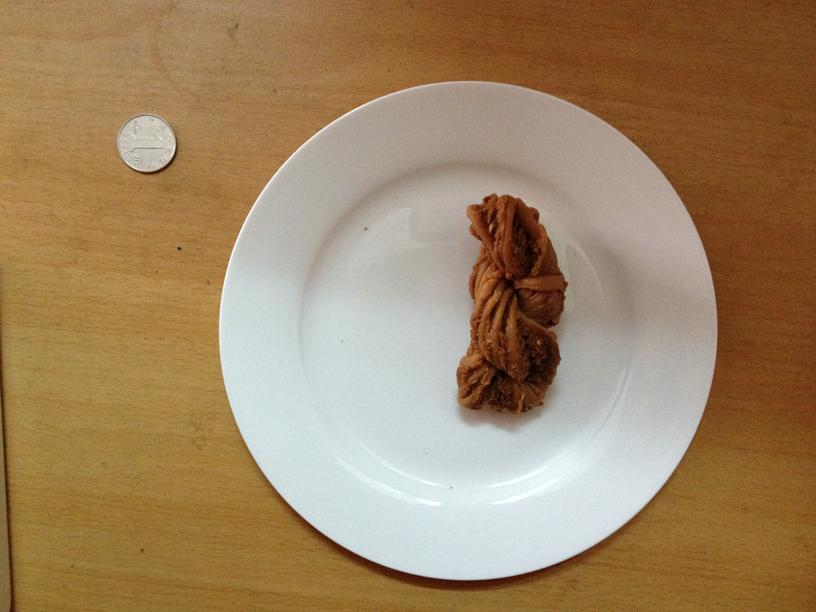coin: (114, 113, 176, 173)
fired_dough_twist: (457, 193, 564, 413)
